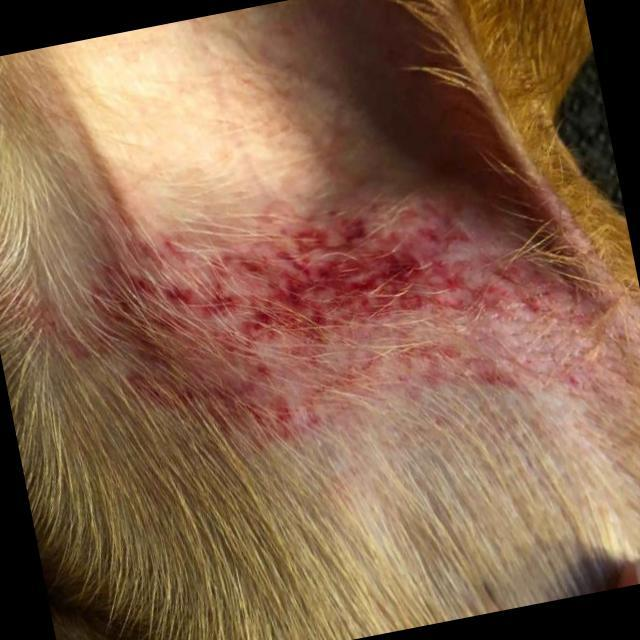allergic dermatitis: (94, 206, 584, 398)
